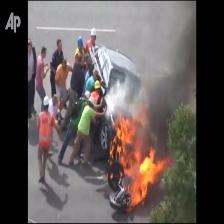fire: (116, 125, 155, 200)
